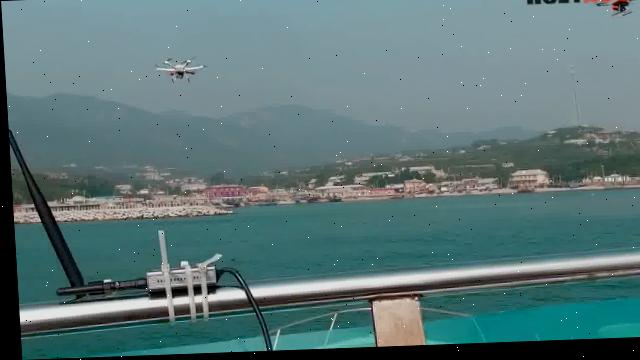drone: (144, 48, 209, 88)
